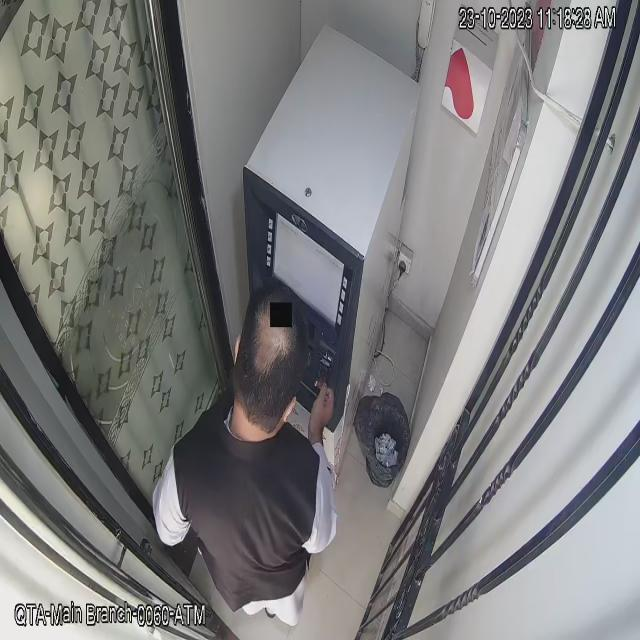atm-card: (310, 349, 336, 397)
